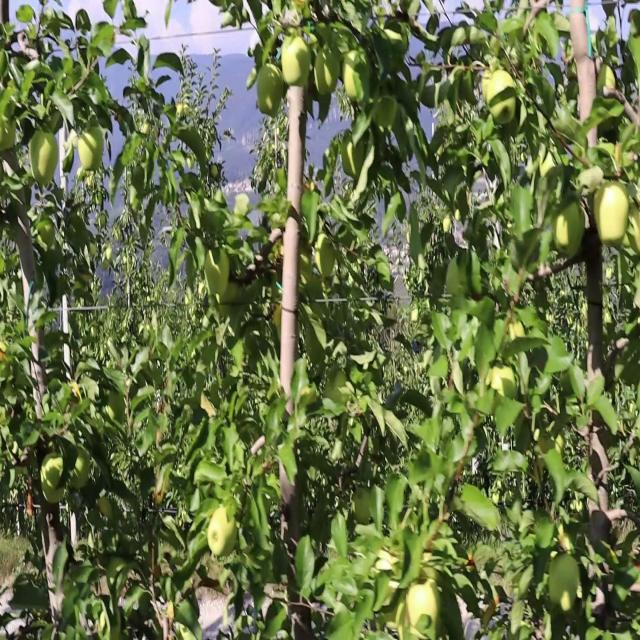apple: (594, 182, 629, 244), (481, 69, 516, 124), (555, 202, 585, 258), (29, 131, 58, 187), (406, 580, 439, 627), (342, 49, 370, 102), (281, 36, 310, 87), (208, 507, 238, 556), (258, 62, 284, 118), (386, 593, 416, 640), (389, 598, 420, 640), (570, 0, 592, 58), (314, 49, 340, 96), (78, 127, 104, 171), (341, 133, 364, 179), (59, 124, 78, 173), (152, 464, 171, 507), (71, 449, 90, 489), (628, 207, 640, 253), (200, 390, 216, 418), (96, 493, 112, 517), (318, 93, 331, 122), (560, 589, 575, 611), (508, 322, 525, 340), (102, 242, 112, 262)
